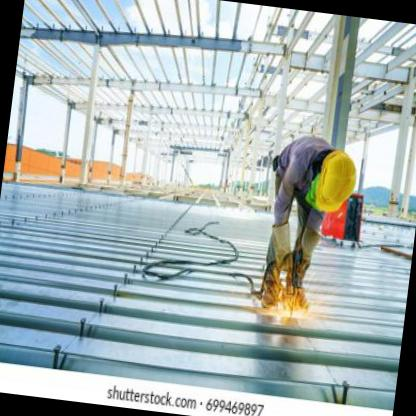Gloves: (266, 220, 298, 274), (294, 224, 324, 281)
